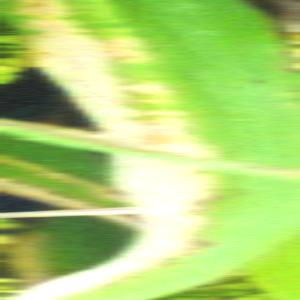2 BacterialBlight: (70, 1, 293, 278)
